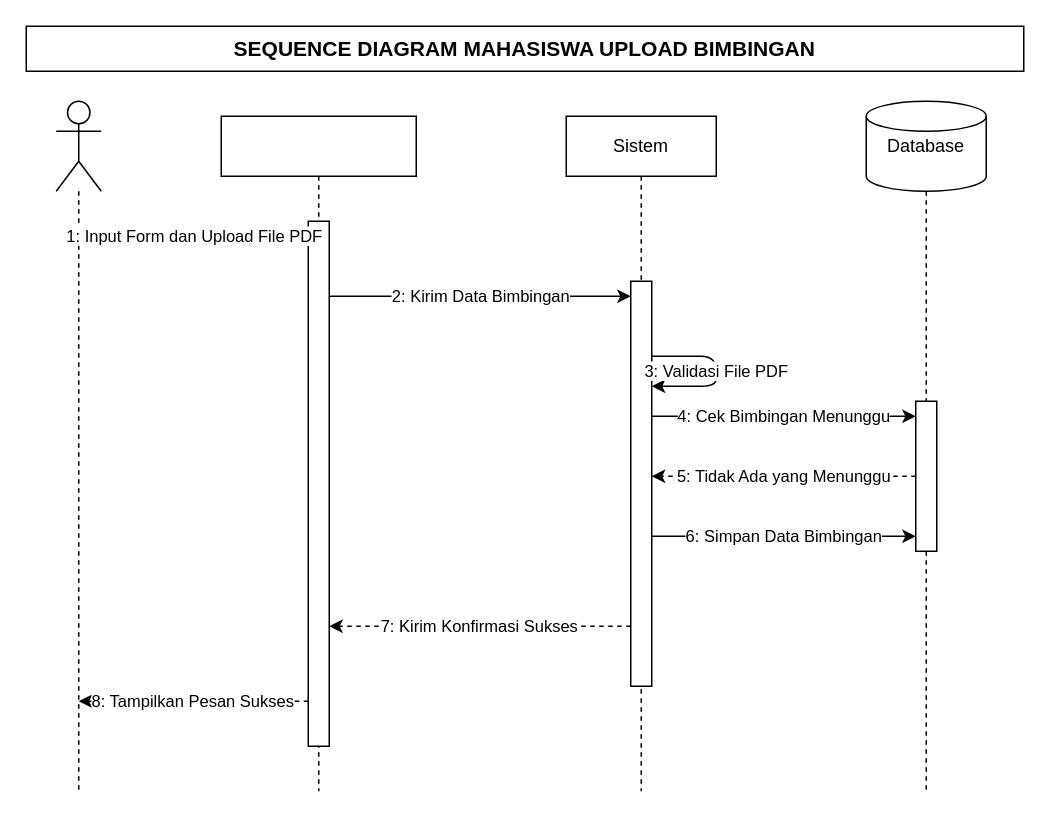
The diagram is 1050 pixels wide and 819 high, and some of its shapes have lost their labels. Each missing label, with the centre of its shape:
Halaman Bimbingan: [318,145]
Mahasiswa: [78,145]
